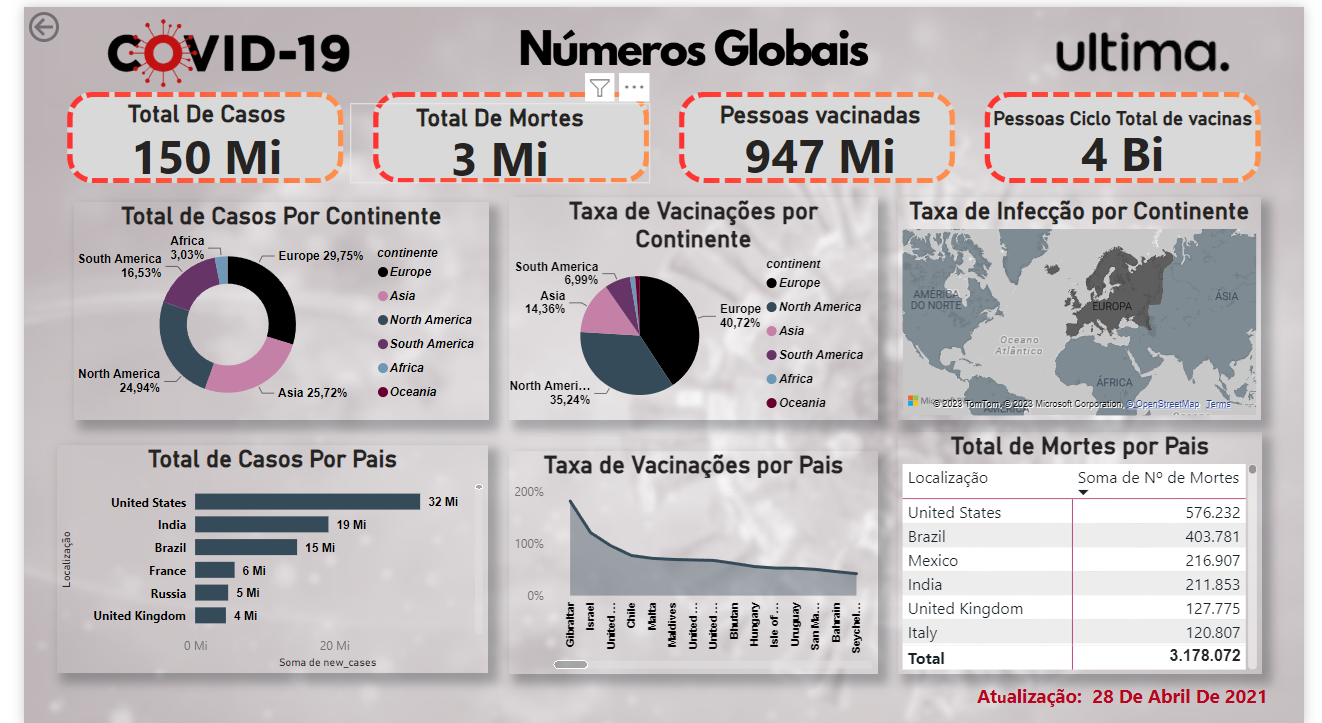

The dashboard page shown, as its layout file describes it:
{"tool":"powerbi","page":{"name":"Página 1","canvas":[1280,720],"ordinal":0},"visuals":[{"type":"actionButton","box":[0,0,100,40],"z":0},{"type":"donutChart","title":"Total de Casos Por Continente ","fields":{"Category":["DcovidDeaths_Projeto_PBI.continent"],"Y":["Sum(FcovidDeaths_Projeto_PBI.new_cases)"]},"box":[49.4,195.4,414.9,218.3],"z":1000},{"type":"clusteredBarChart","title":"Total de Casos Por Pais ","fields":{"Y":["Sum(FcovidDeaths_Projeto_PBI.new_cases)"],"Category":["DcovidDeaths_Projeto_PBI.location"]},"box":[32.6,437.8,431.8,229.1],"z":2000},{"type":"card","title":"Total De Casos","fields":{"Values":["Sum(FcovidDeaths_Projeto_PBI.new_cases)"]},"box":[50,92,265,84],"z":3000},{"type":"card","title":"Total De Mortes ","fields":{"Values":["Sum(FcovidDeaths_Projeto_PBI.new_deaths)"]},"box":[326.8,96.5,299.1,79.6],"z":4000},{"type":"card","title":"Pessoas vacinadas","fields":{"Values":["Sum(FcovidDeaths_Projeto_PBI.new_vaccinations)"]},"box":[656.1,94.1,279.8,79.6],"z":5000},{"type":"card","title":"Pessoas Ciclo Total de vacinas ","fields":{"Values":["FcovidDeaths_Projeto_PBI.Pessoas_Totalmente_vacinadas"]},"box":[961.2,100.1,275,68.7],"z":6000},{"type":"textbox","box":[913,653.7,366.6,53.1],"z":7000},{"type":"filledMap","title":"Taxa de Infecção por Continente","fields":{"Category":["DcovidDeaths_Projeto_PBI.continent"]},"box":[873.2,190.6,363,223.1],"z":8000},{"type":"pivotTable","title":"Total de Mortes por Pais ","fields":{"Rows":["DcovidDeaths_Projeto_PBI.location"],"Values":["Sum(FcovidDeaths_Projeto_PBI.new_deaths)"]},"box":[873.2,424.5,364.2,242.4],"z":9000},{"type":"pieChart","title":"Taxa de Vacinações por Continente","fields":{"Category":["DcovidDeaths_Projeto_PBI.continent"],"Y":["FcovidDeaths_Projeto_PBI.Taxa de Vacinação"]},"box":[484.8,190.6,369,223.1],"z":10000},{"type":"stackedAreaChart","title":"Taxa de Vacinações por Pais","fields":{"Category":["DcovidDeaths_Projeto_PBI.Localização"],"Y":["FcovidDeaths_Projeto_PBI.Taxa de Vacinação"]},"box":[484.8,443.8,369,223.1],"z":11000}]}

Visuals, with their boxes in screenshot pixels (x1, y1, x2, y2), scaled from the page's 1280x720 canvas onto the 1322x723 screenshot:
actionButton: select_region(0, 0, 103, 40)
"Total de Casos Por Continente " donutChart: select_region(51, 196, 480, 415)
"Total de Casos Por Pais " clusteredBarChart: select_region(34, 440, 480, 670)
"Total De Casos" card: select_region(52, 92, 325, 177)
"Total De Mortes " card: select_region(338, 97, 646, 177)
"Pessoas vacinadas" card: select_region(678, 94, 967, 174)
"Pessoas Ciclo Total de vacinas " card: select_region(993, 101, 1277, 170)
textbox: select_region(943, 656, 1321, 710)
"Taxa de Infecção por Continente" filledMap: select_region(902, 191, 1277, 415)
"Total de Mortes por Pais " pivotTable: select_region(902, 426, 1278, 670)
"Taxa de Vacinações por Continente" pieChart: select_region(501, 191, 882, 415)
"Taxa de Vacinações por Pais" stackedAreaChart: select_region(501, 446, 882, 670)
